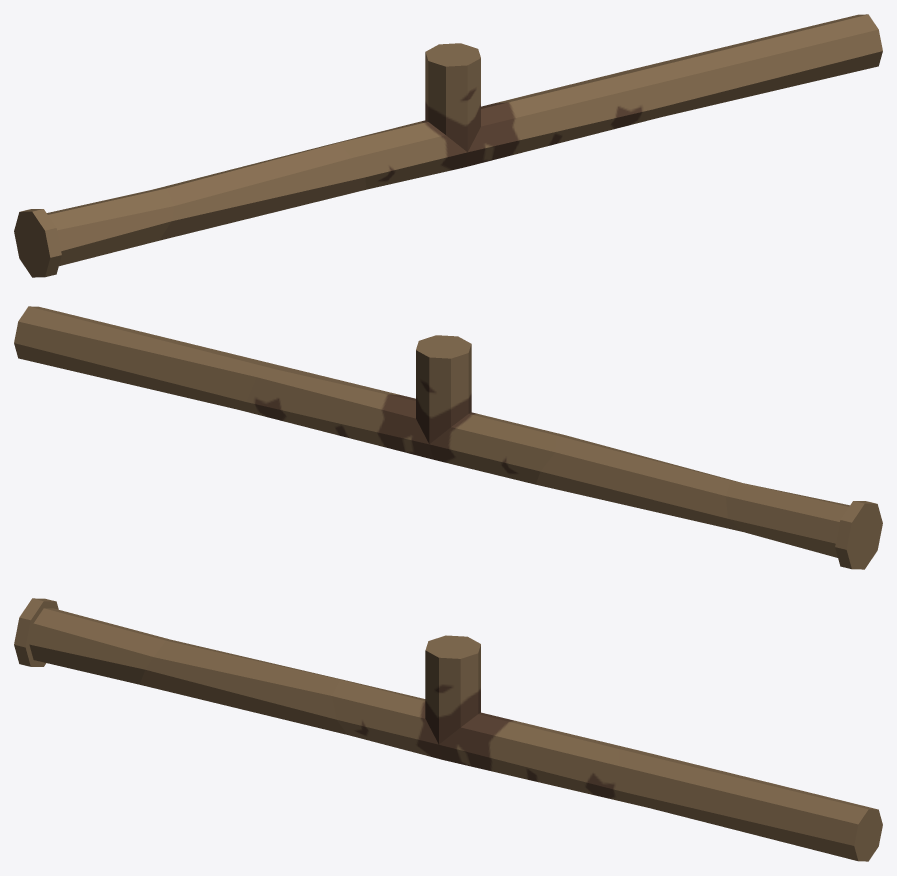
Rendered from SM_Prop_Pipe_02_T_01.fbx.
3 renders of one model, top to bottom at view 1: azimuth 30°, elevation 25°; view 2: azimuth 150°, elevation 25°; view 3: azimuth 330°, elevation 25°, orthographic.
Visible parts, largest first — view 1: SM_Prop_Pipe_02_T_01; view 2: SM_Prop_Pipe_02_T_01; view 3: SM_Prop_Pipe_02_T_01.
Part boxes in pixels (x1,y1,x2,y2): SM_Prop_Pipe_02_T_01: [14, 14, 882, 277]; SM_Prop_Pipe_02_T_01: [14, 306, 882, 569]; SM_Prop_Pipe_02_T_01: [14, 598, 882, 861].
Bounding box in the file's own units: 252 × 34.48 × 18.95.
